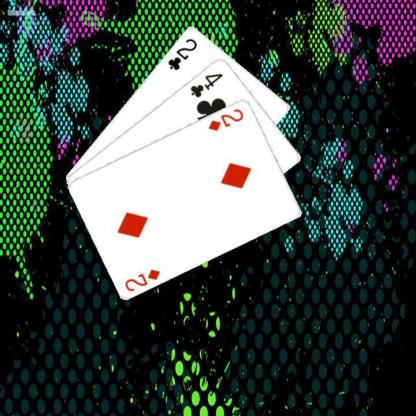2C: (164, 35, 198, 72)
2D: (122, 266, 162, 292), (206, 106, 245, 132)
4C: (187, 70, 224, 99)
